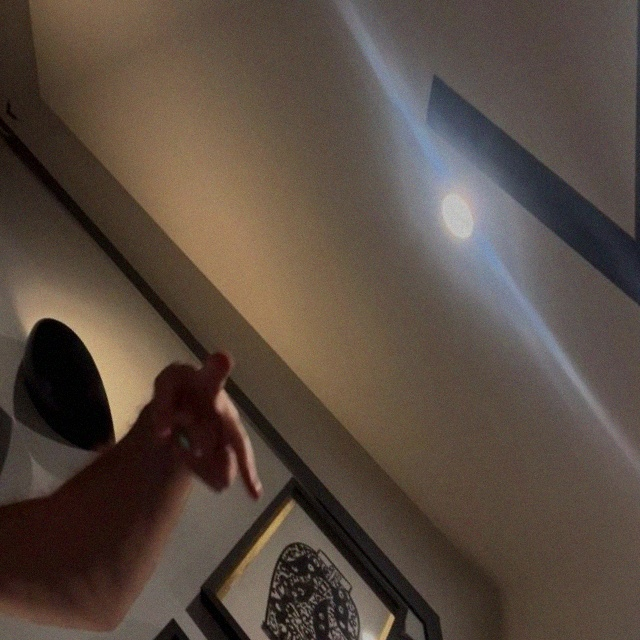Scissors: (130, 337, 289, 527)
